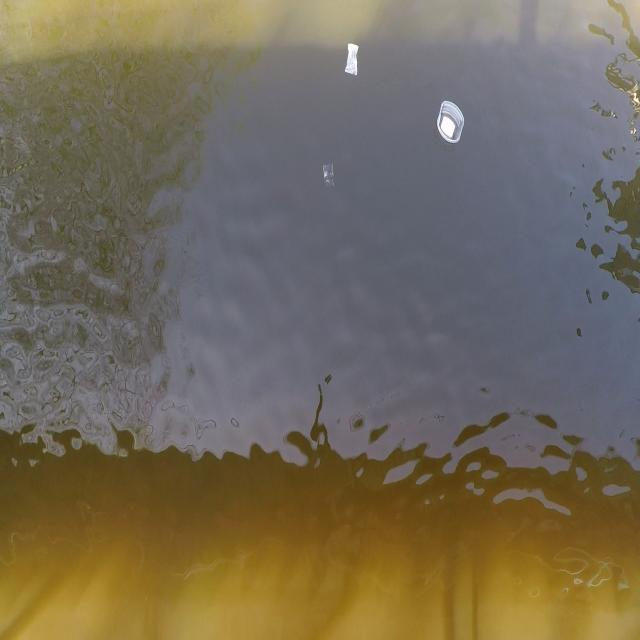Autre plastique: (432, 94, 472, 152), (341, 35, 363, 85)
